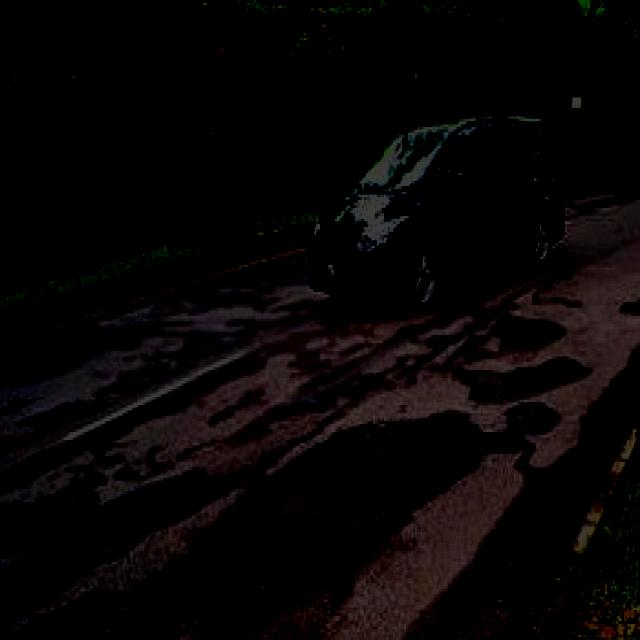Pothole: (0, 454, 186, 612)
